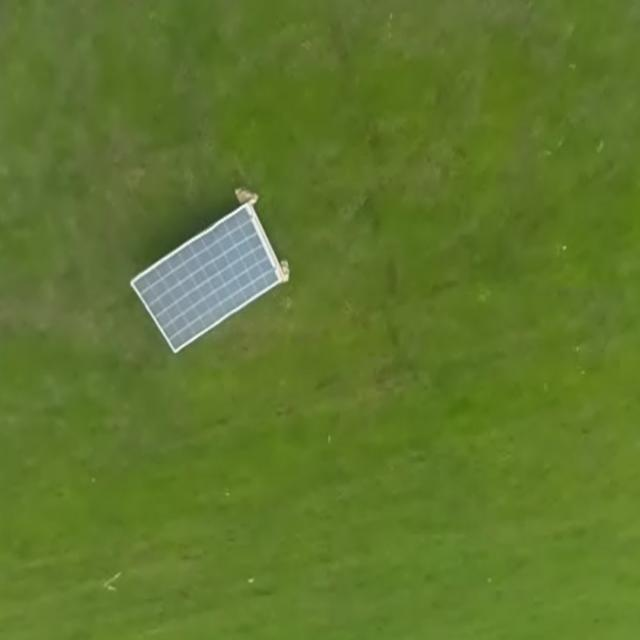no faulty: (128, 207, 282, 352)
